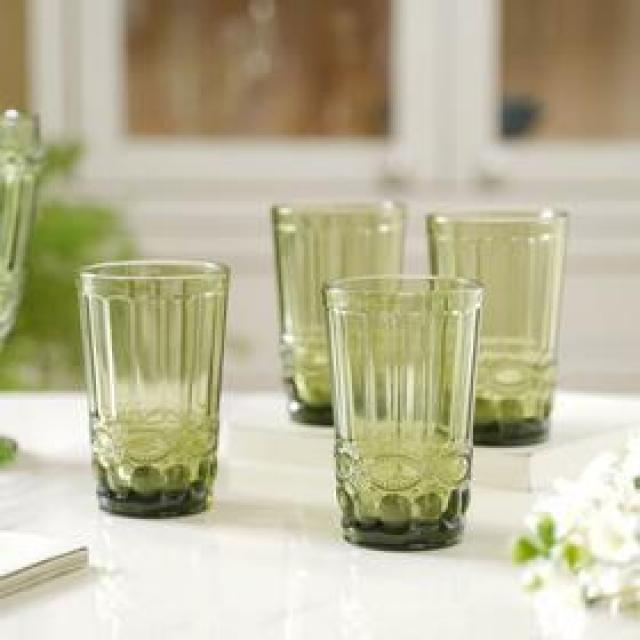non-organic waste: (73, 256, 236, 512)
